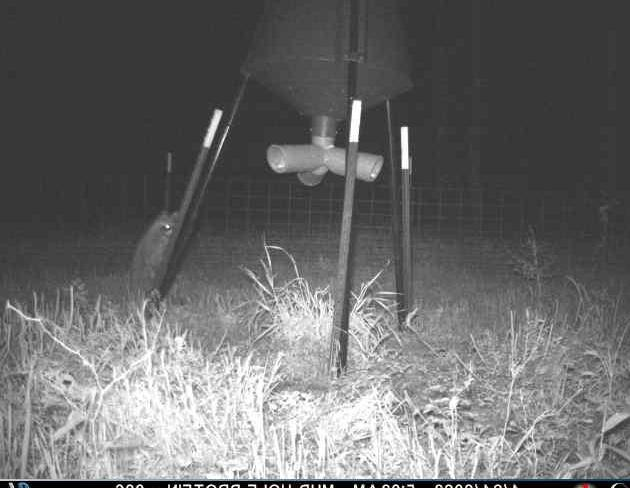Raccoon: (126, 207, 180, 296)
